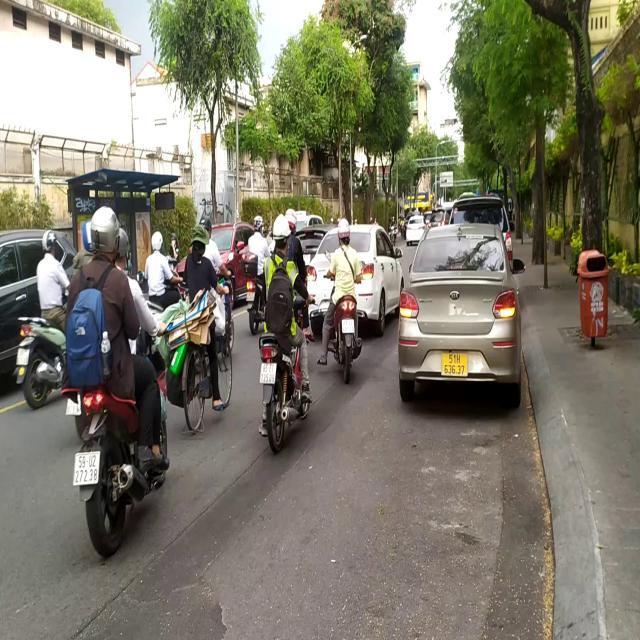bien_vang: (442, 349, 469, 379)
